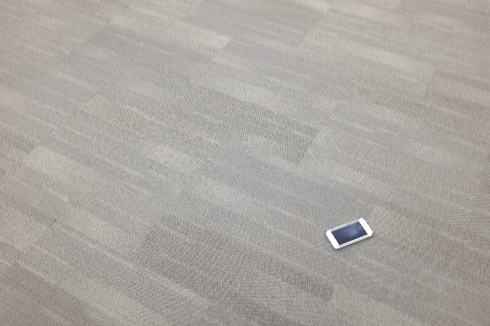phone: (324, 216, 373, 248)
